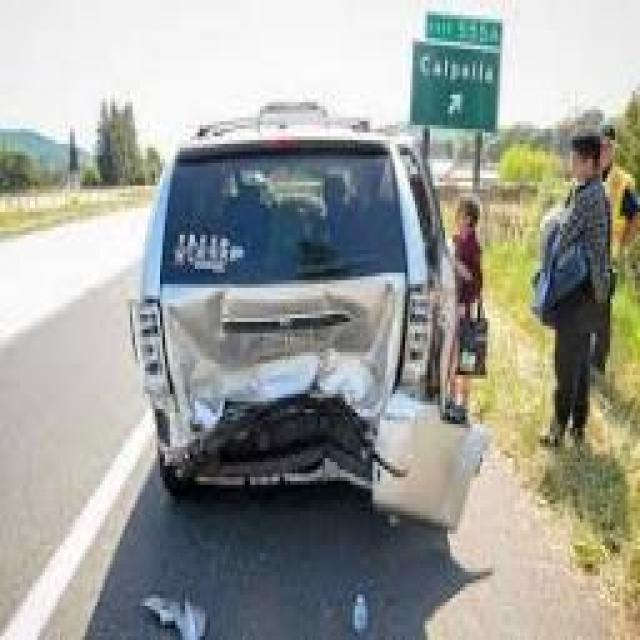Bumper: (167, 392, 484, 529)
Dickey: (163, 130, 413, 434)
